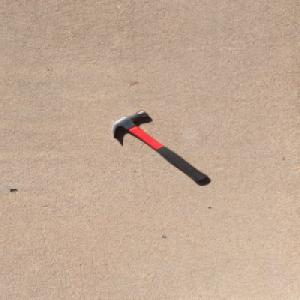Hammer: (109, 108, 209, 183)
